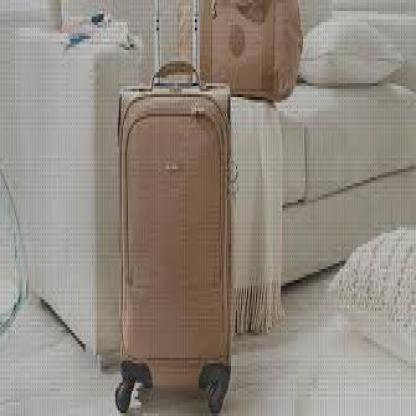maleta: (117, 64, 246, 413), (172, 6, 316, 116)
